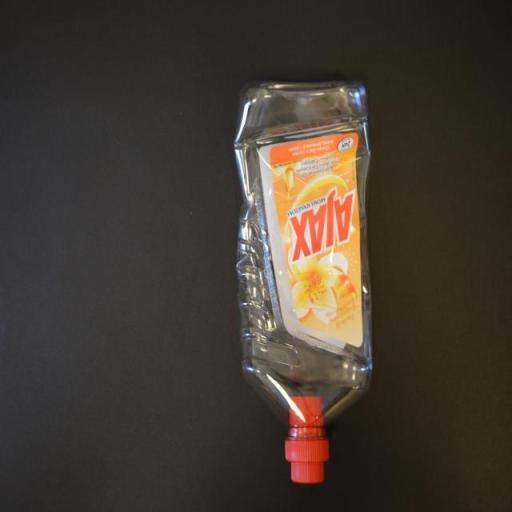plastic: (234, 72, 372, 486)
